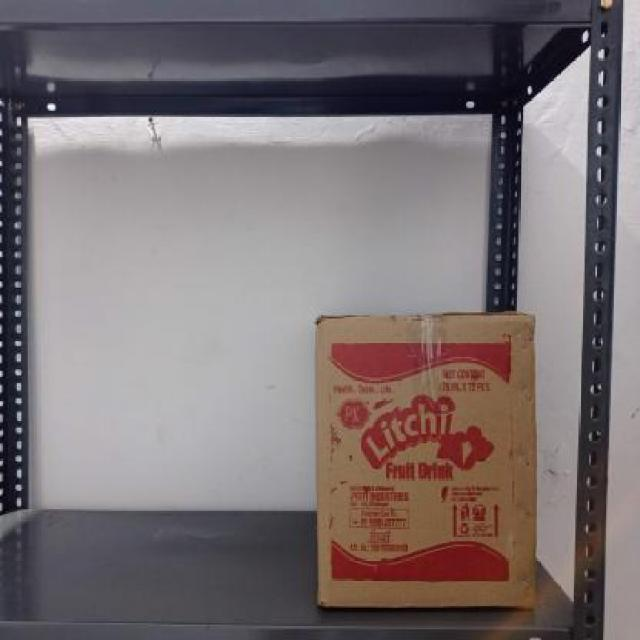box: (314, 317, 538, 608)
